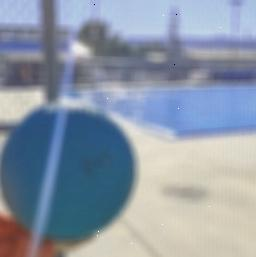algae: (0, 100, 142, 242)
